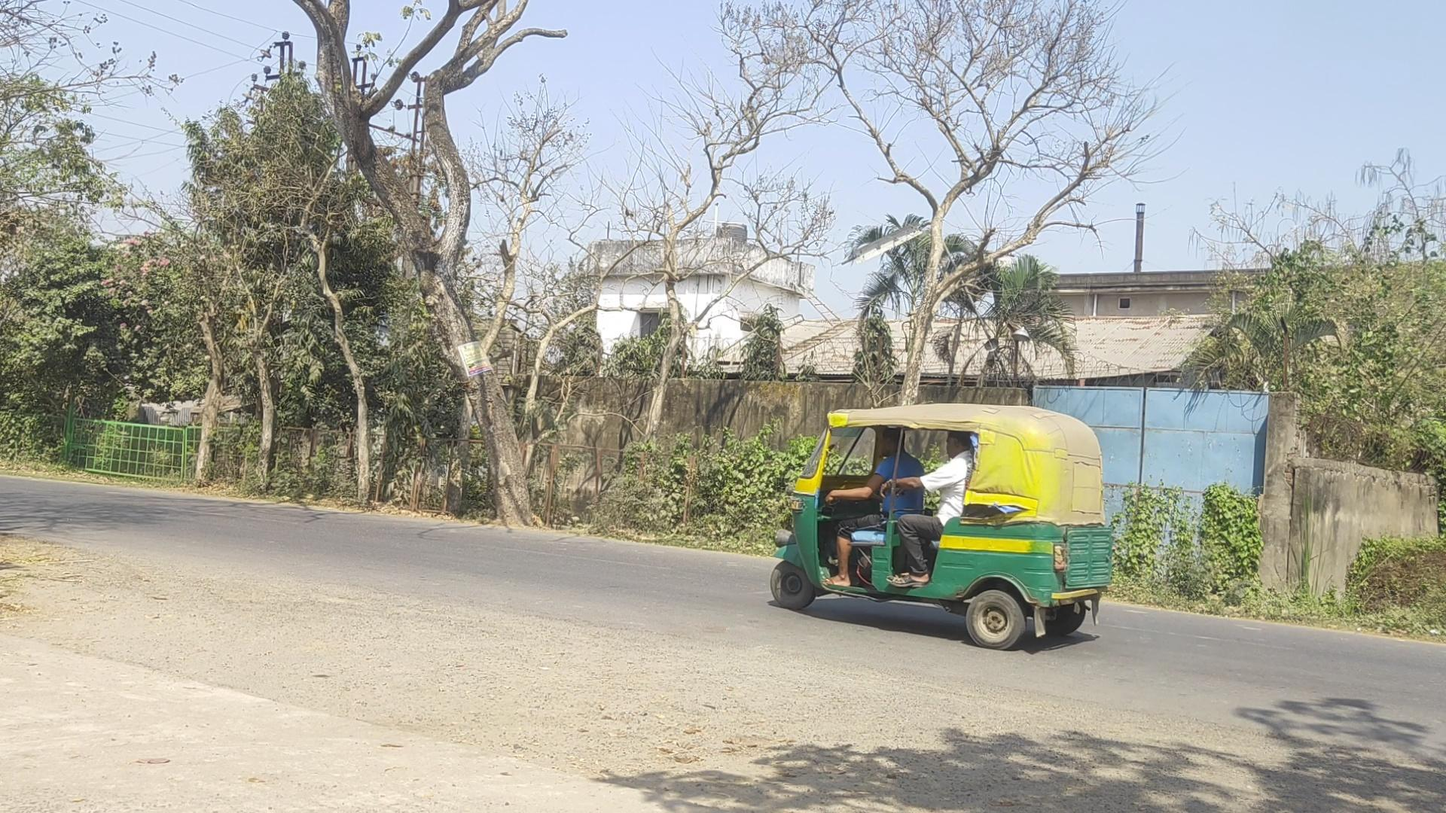Auto: (770, 402, 1112, 650)
